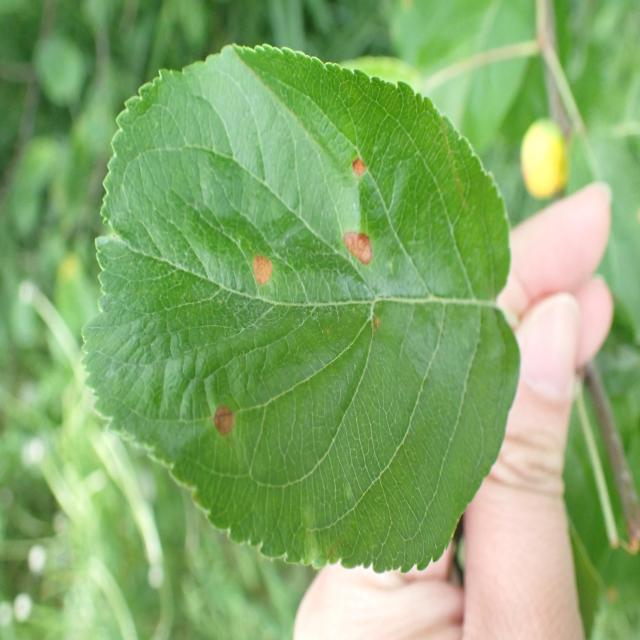Black Rot: (340, 213, 377, 280), (334, 142, 374, 188), (251, 237, 280, 300), (212, 385, 240, 442)
